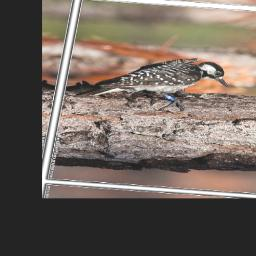Woodpecker: (61, 45, 241, 123)
